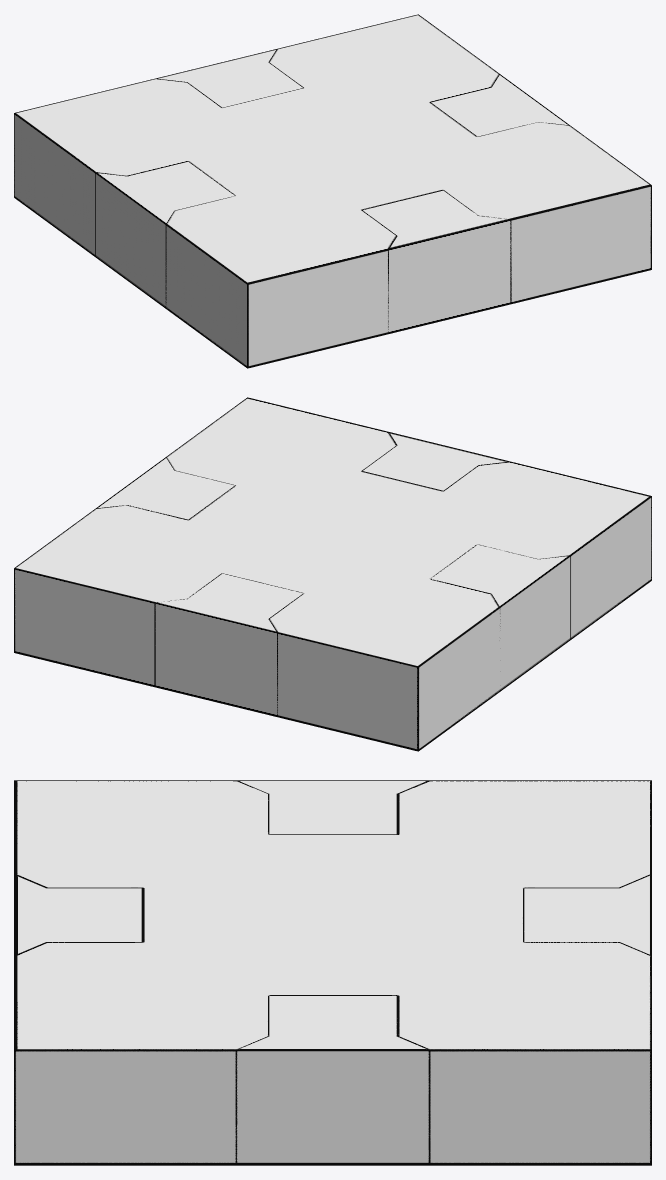
Rendered from gik_3cm.fbx.
3 views of the same model, one above another, from view 1: azimuth 30°, elevation 25°; view 2: azimuth 150°, elevation 25°; view 3: azimuth 270°, elevation 25° (orthographic). The views are drawn at different scales.
Parts seen in each view (by area): view 1: Box001, Box002; view 2: Box001, Box002; view 3: Box001, Box002.
Part boxes in pixels (x1,y1,x2,y2): Box001: (14, 14, 651, 368); Box002: (14, 15, 651, 368); Box001: (14, 397, 651, 751); Box002: (14, 398, 651, 751); Box001: (14, 780, 651, 1165); Box002: (14, 780, 651, 1165).
Bounding box in the file's own units: 0.03 × 0.006 × 0.03.
Materials: 2 (2 with a texture image).
